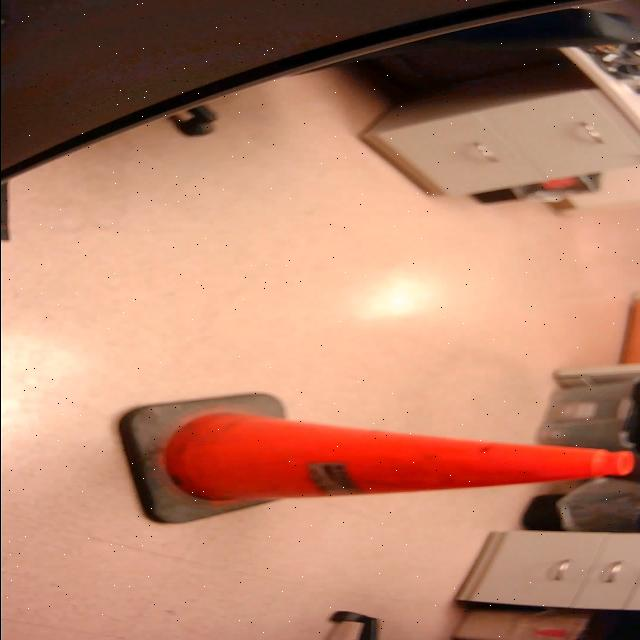traffic cone: (113, 386, 640, 532)
